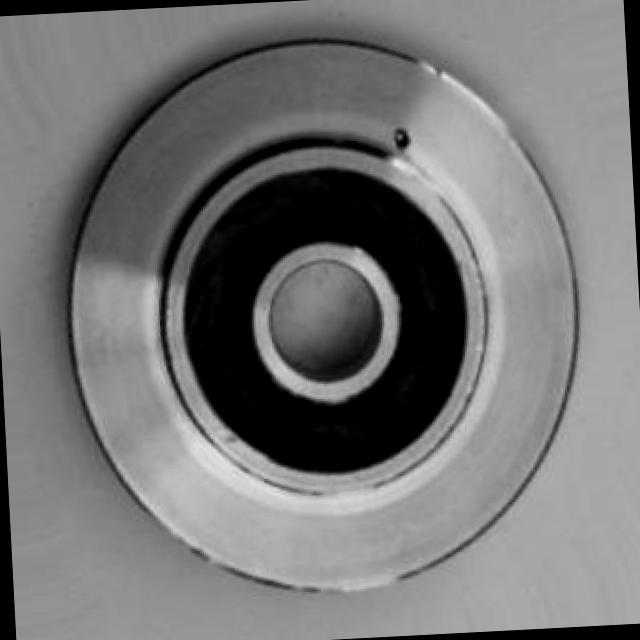Defect: (379, 118, 422, 157)
